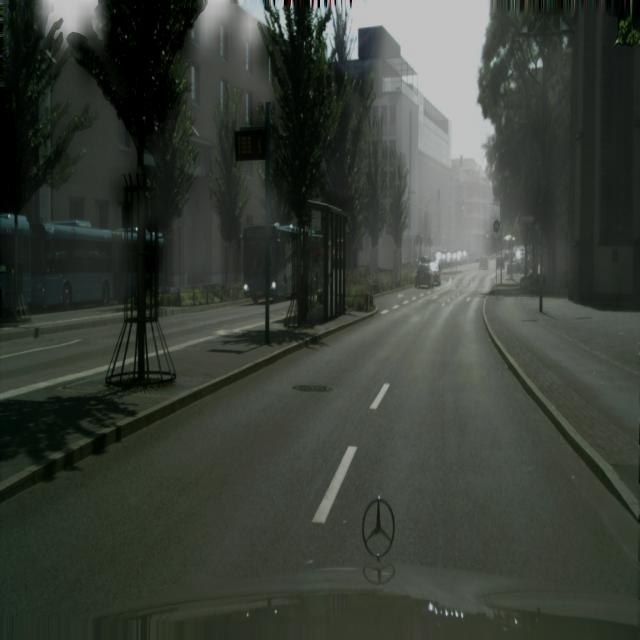bicycle: (32, 220, 113, 310), (242, 222, 311, 305), (0, 213, 32, 317)
person: (414, 259, 441, 289), (478, 255, 488, 270)
